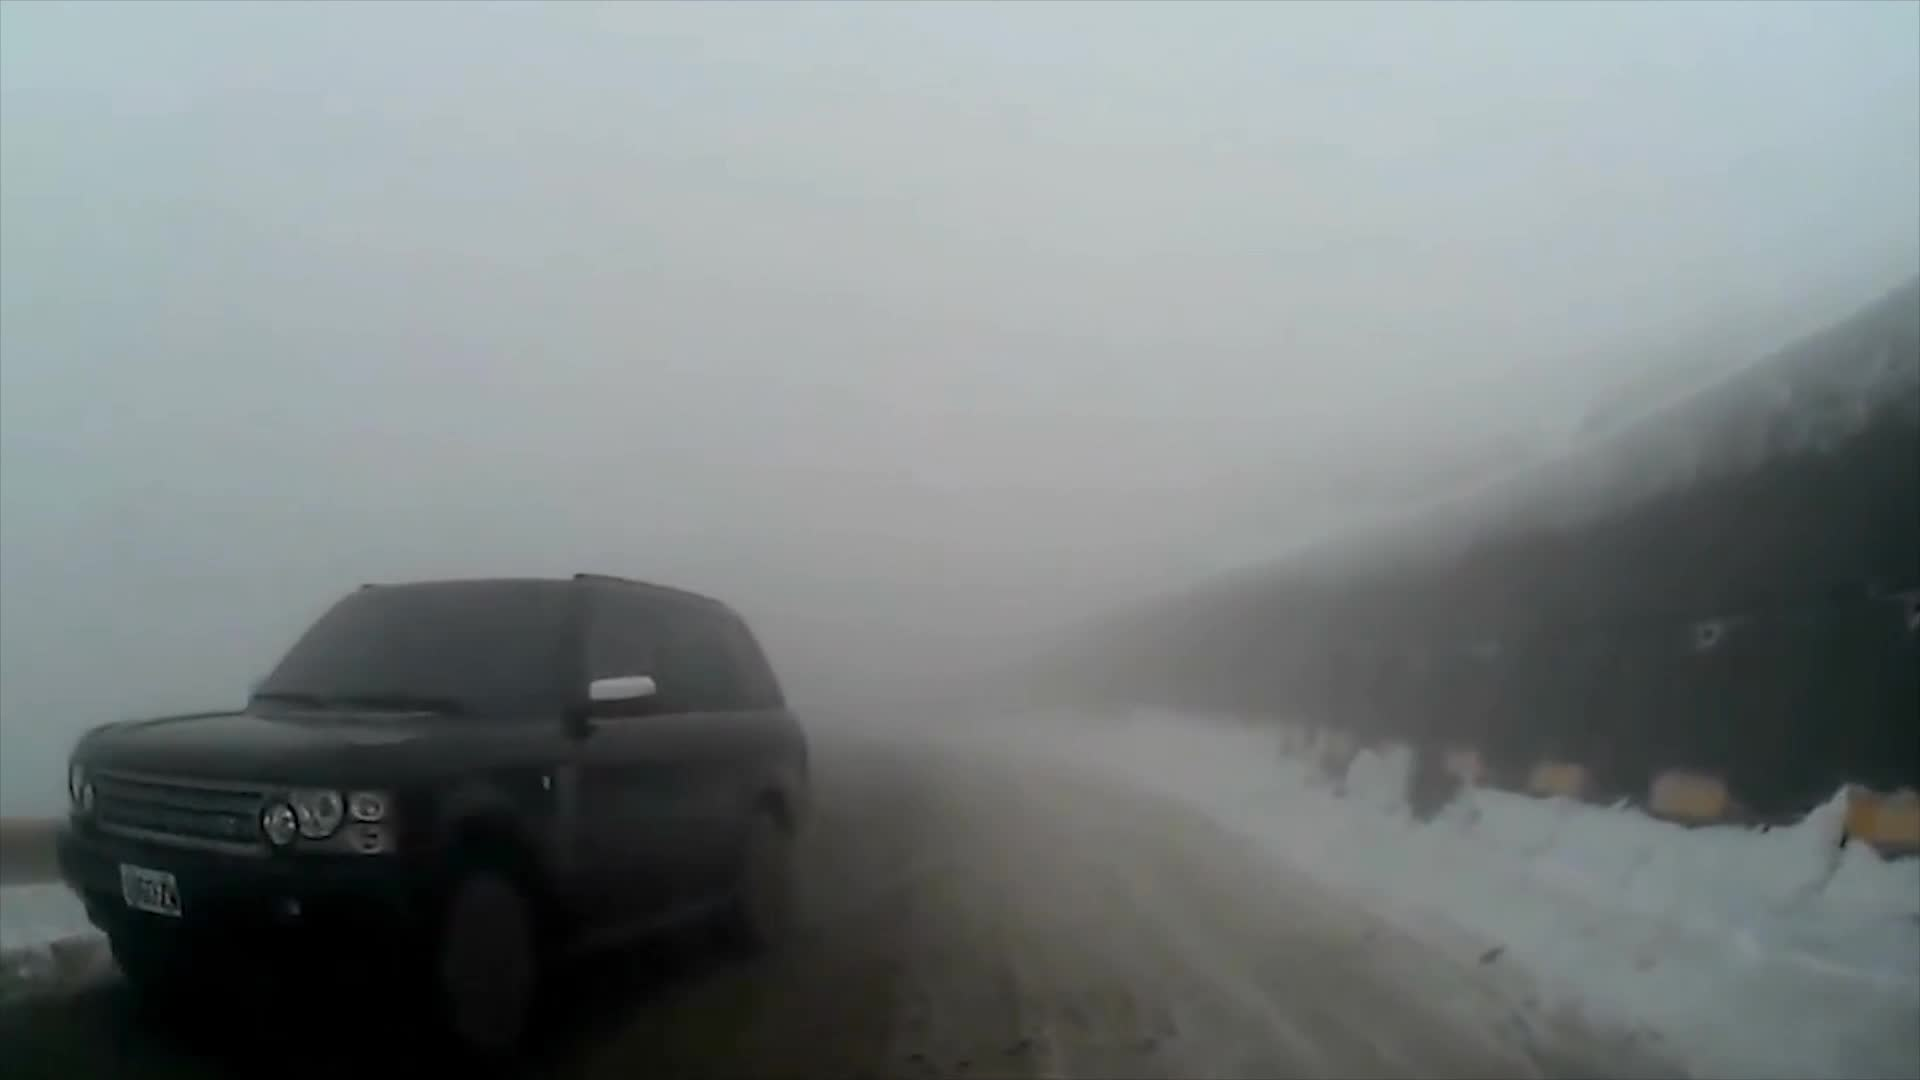vehicle: (51, 570, 820, 1075)
